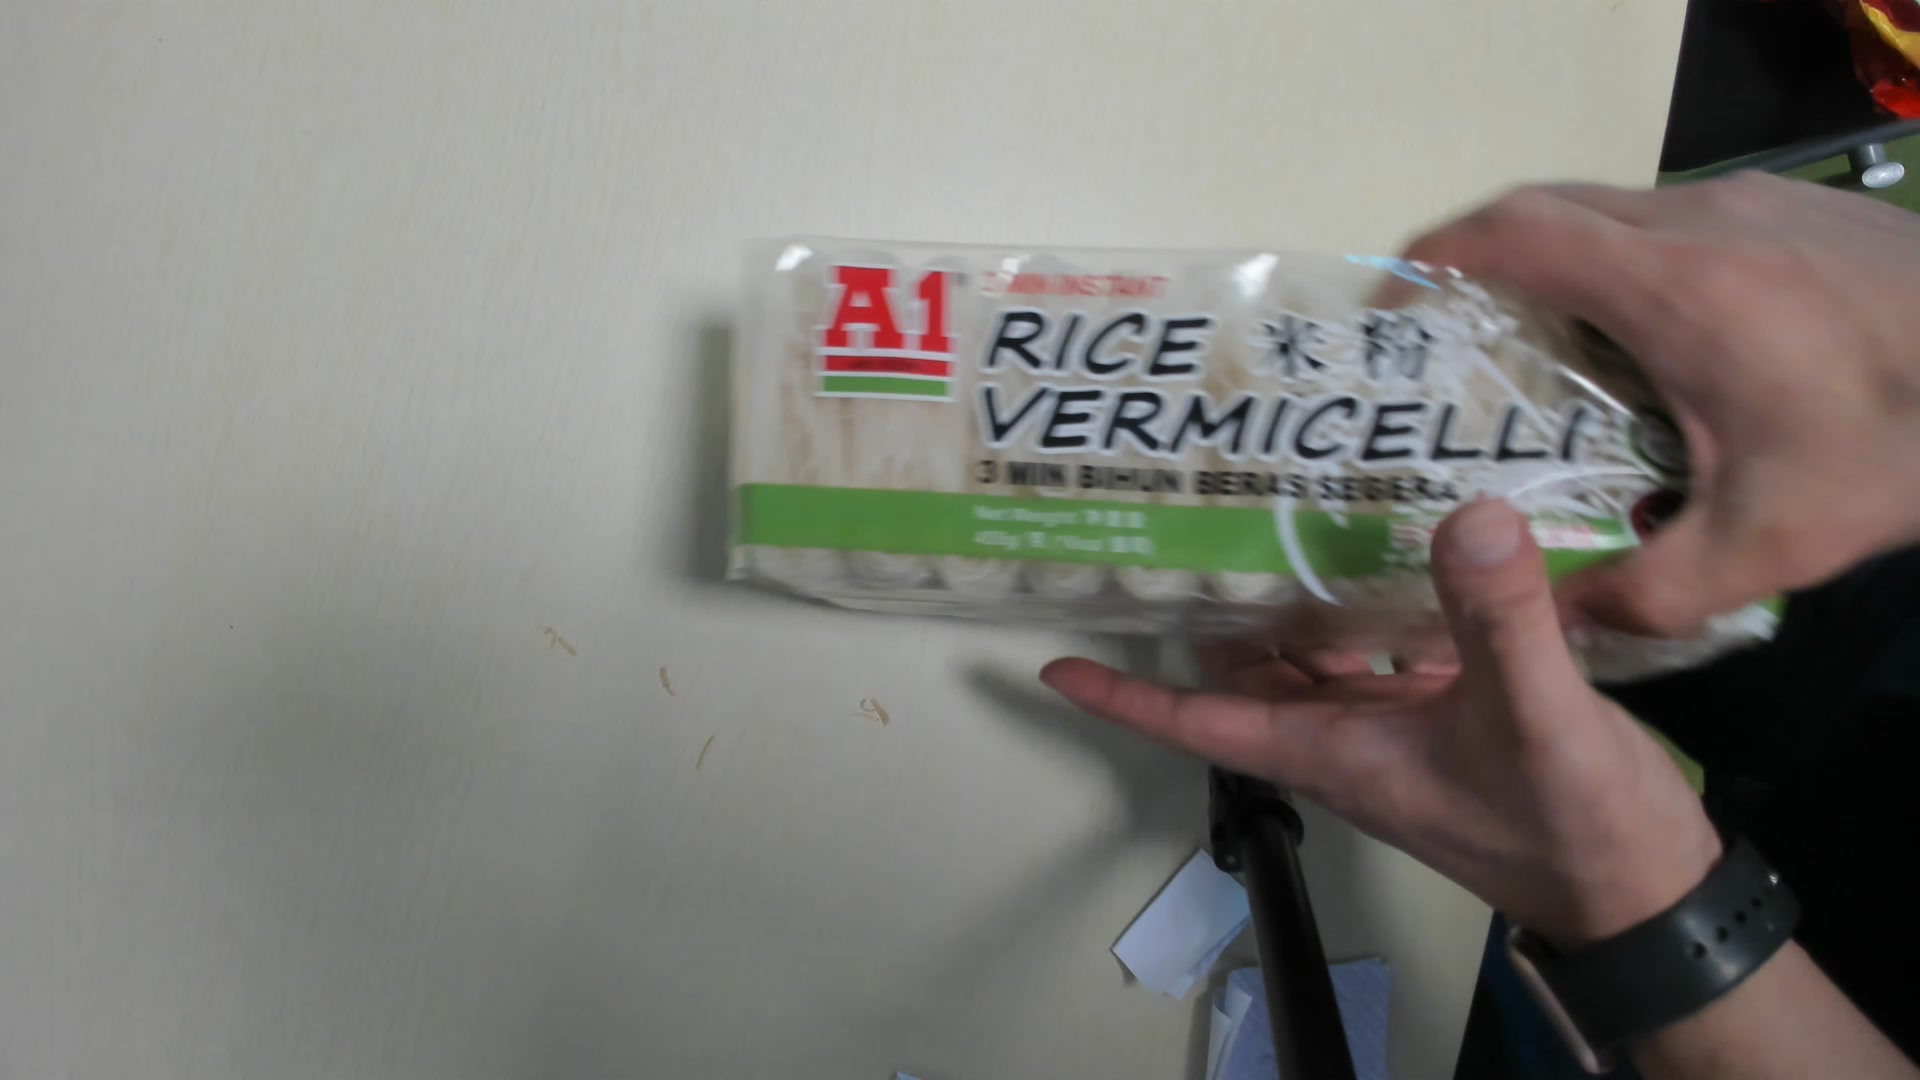BeeHoonVermicelli_400-499g_Halal_NonHealthy: (729, 222, 1779, 688)
